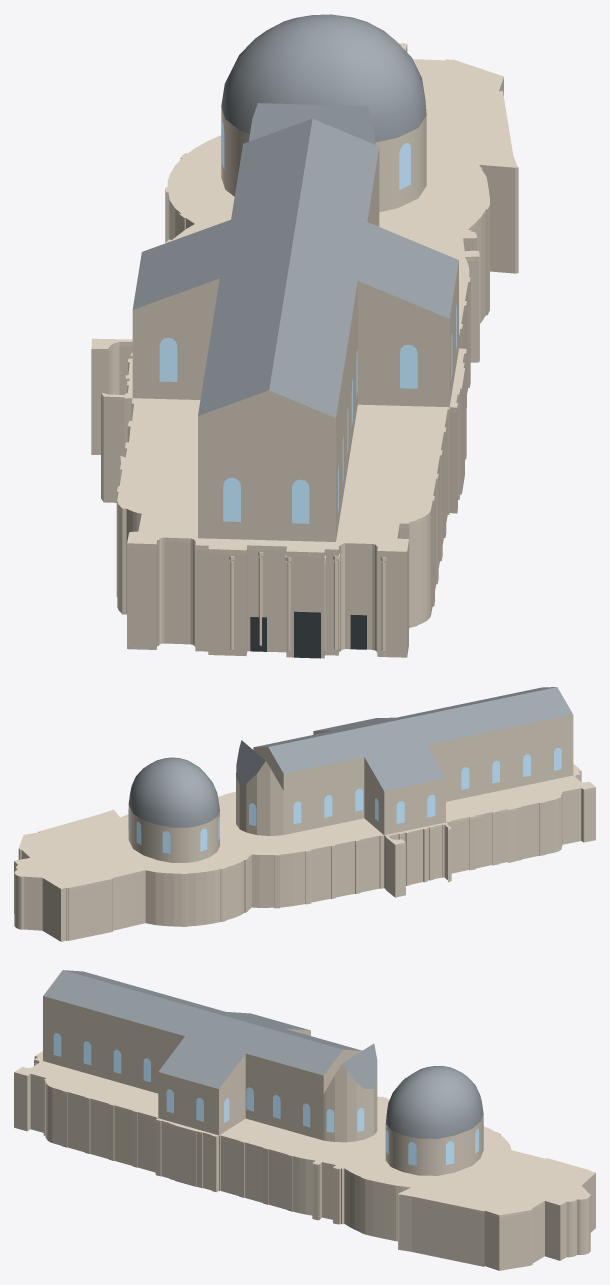
Rendered from detail.glb.
3 views of the same model, one above another, from view 1: azimuth 30°, elevation 25°; view 2: azimuth 150°, elevation 25°; view 3: azimuth 270°, elevation 25° (orthographic). The views are drawn at different scales.
Parts seen in each view (by area): view 1: stone, roof, window, trim, recess; view 2: stone, roof, window, trim; view 3: stone, roof, window, trim.
Part boxes in pixels (box(x1,y1,x2,y2)): stone: box(91, 43, 518, 658); roof: box(132, 14, 458, 417); window: box(159, 121, 456, 523); trim: box(101, 47, 518, 651); recess: box(250, 611, 366, 658); stone: box(14, 714, 595, 941); roof: box(128, 687, 572, 827); window: box(128, 748, 561, 853); trim: box(14, 772, 595, 889); stone: box(14, 996, 595, 1270); roof: box(43, 970, 483, 1138); window: box(53, 1033, 478, 1165); trim: box(14, 1061, 595, 1217).
Bounding box in the file's own units: 90.28 × 30 × 114.
